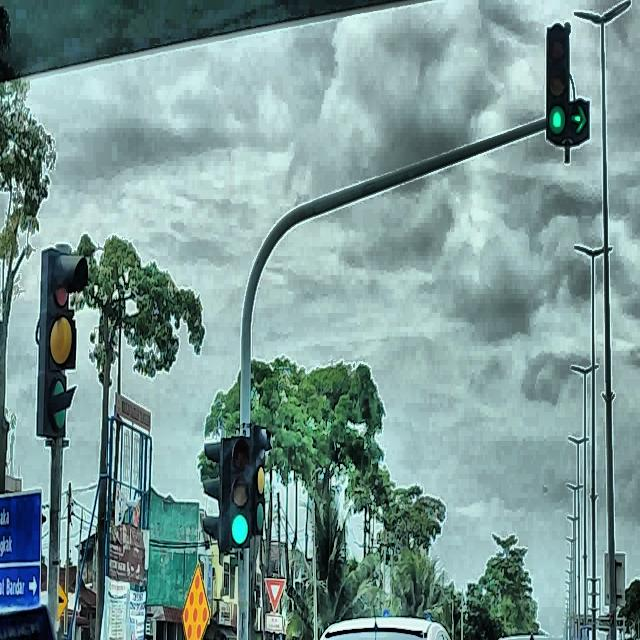green: (546, 23, 569, 142), (229, 434, 251, 548), (569, 24, 589, 144)
